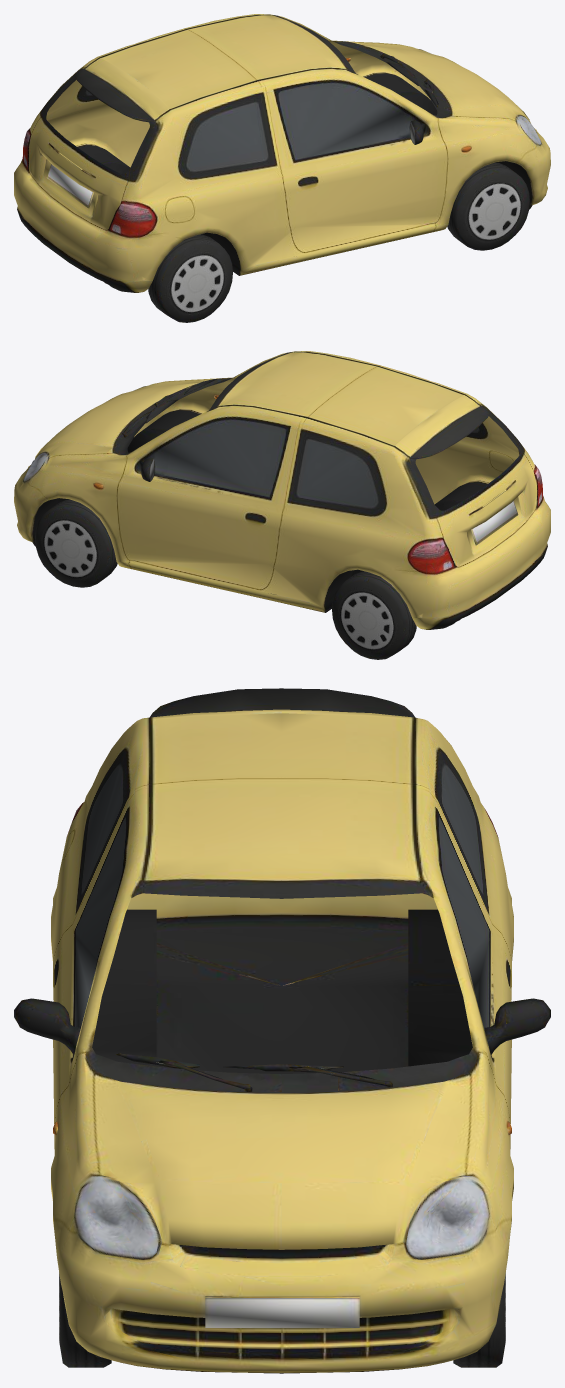
Rendered from traffic_mini.glb.
The picture shows the model from 3 angles, top to bottom: view 1: azimuth 30°, elevation 25°; view 2: azimuth 150°, elevation 25°; view 3: azimuth 270°, elevation 25°; orthographic projection. The views are drawn at different scales.
Parts seen in each view (by area): view 1: Body, Wheel_FR, Wheel_RR; view 2: Body, Wheel_FL, Wheel_RL; view 3: Body.
Part boxes in pixels (x1,y1,x2,y2): Body: (14, 14, 550, 321); Wheel_FR: (457, 173, 528, 250); Wheel_RR: (161, 245, 232, 322); Body: (14, 351, 550, 658); Wheel_FL: (36, 510, 107, 587); Wheel_RL: (332, 582, 403, 659); Body: (14, 688, 550, 1373).
Bounding box in the file's own units: 1 × 0.4286 × 0.5382.
Materials: 1 (1 with a texture image).
